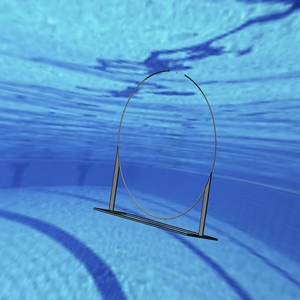circle: (94, 67, 219, 238)
